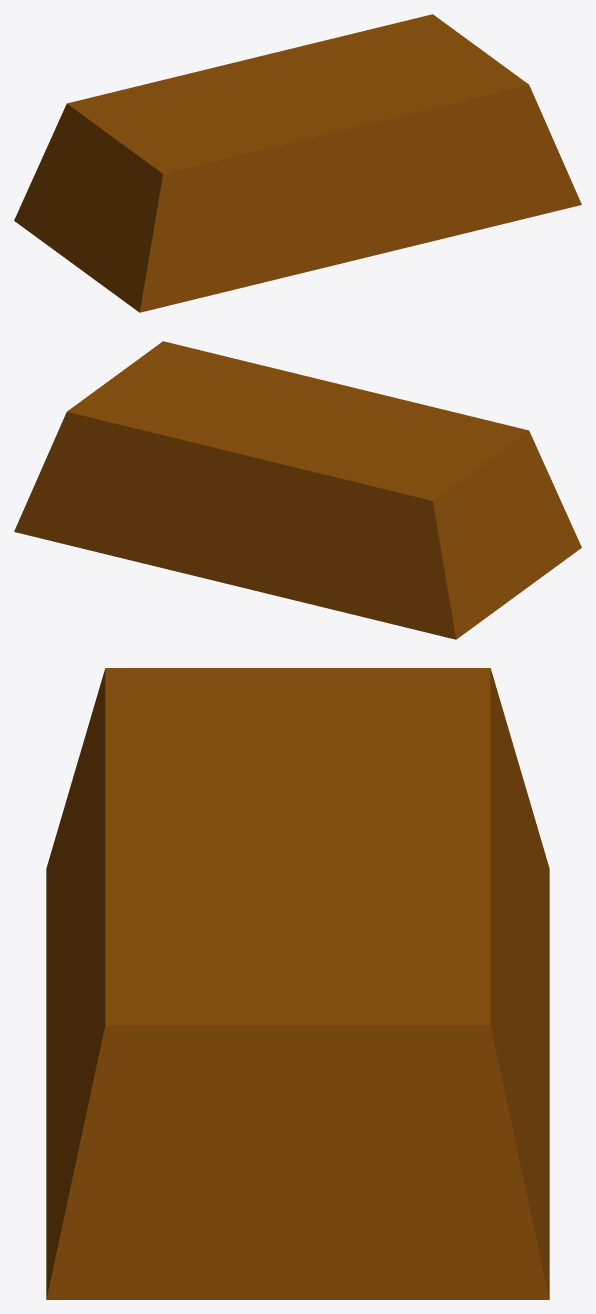
3 renders of one model, top to bottom at view 1: azimuth 30°, elevation 25°; view 2: azimuth 150°, elevation 25°; view 3: azimuth 270°, elevation 25°, orthographic. The views are drawn at different scales.
Visible parts, largest first — view 1: Copper_Ingot; view 2: Copper_Ingot; view 3: Copper_Ingot.
Boxes of the visible parts, left/top/right/bottom form: Copper_Ingot: left=14, top=14, right=581, bottom=312; Copper_Ingot: left=14, top=341, right=581, bottom=639; Copper_Ingot: left=46, top=668, right=549, bottom=1299.
Bounding box in the file's own units: 0.6341 × 0.1627 × 0.3123.
